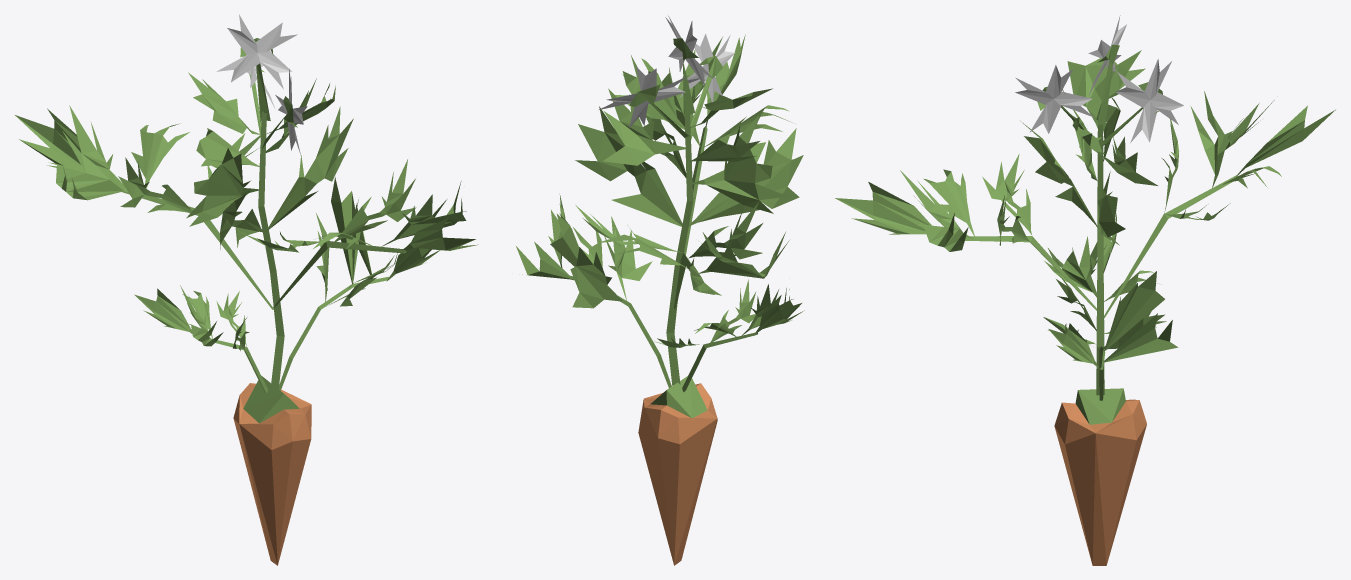
File: Carrot_4.fbx
3 views of the same model, side by side, from view 1: azimuth 30°, elevation 25°; view 2: azimuth 150°, elevation 25°; view 3: azimuth 270°, elevation 25° (orthographic). The views are drawn at different scales.
Visible parts, largest first — view 1: Carrot_4; view 2: Carrot_4; view 3: Carrot_4.
Part boxes in pixels (x1,y1,x2,y2): Carrot_4: (15,14,478,565); Carrot_4: (516,15,804,565); Carrot_4: (835,15,1335,565).
Size of the model in its own units: 39.12 by 66.71 by 56.23.
